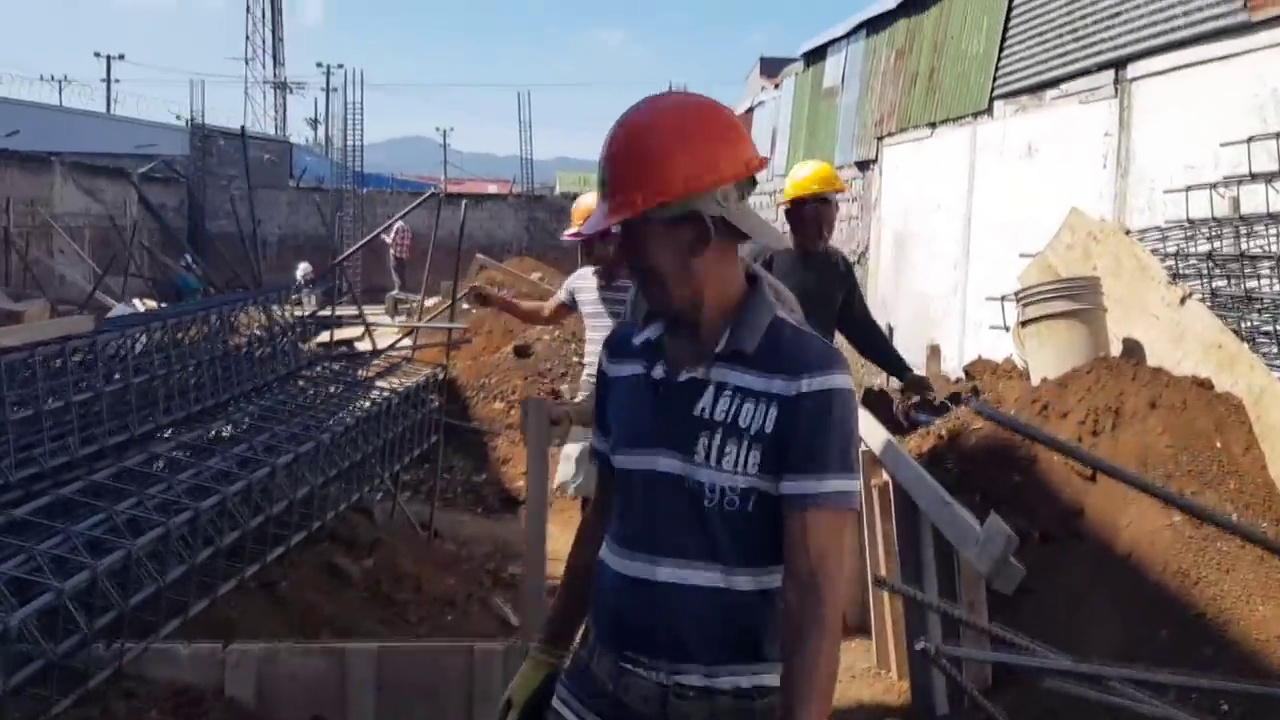helmet: (584, 87, 772, 241), (777, 156, 848, 204), (560, 186, 610, 246)
helmet-off: (386, 213, 400, 223)
helmet-on: (581, 85, 771, 371), (781, 160, 849, 259), (556, 184, 622, 282)
person: (536, 85, 858, 703), (465, 171, 643, 682), (744, 139, 936, 399), (382, 211, 416, 301), (288, 263, 313, 307)
